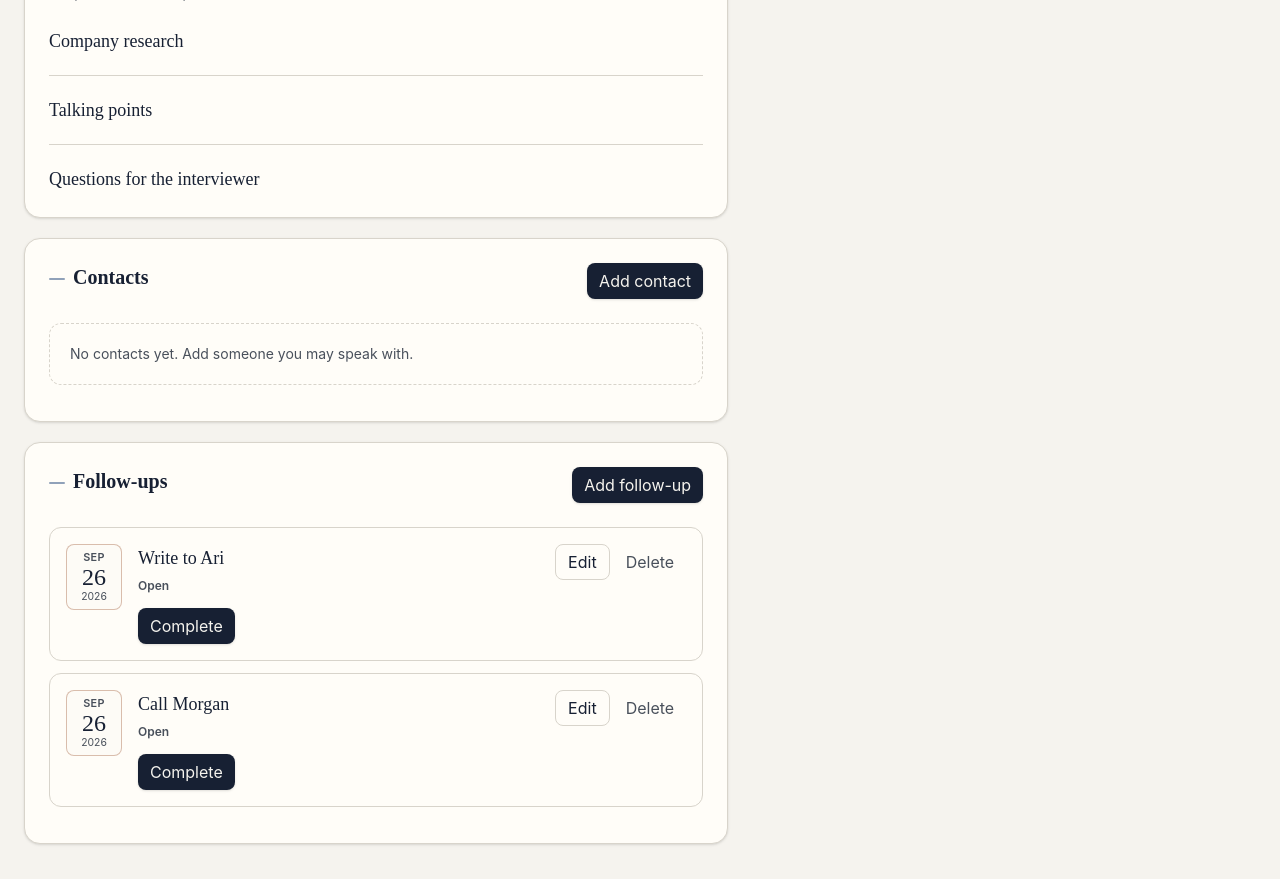
Scenario: asks before replacing a dirty follow-up editor
The image size is (1280, 879).
(page scrolled)
Click the button with aria-label "Edit Write to Ari". click: x=582, y=562
box: left=555, top=544, right=610, bottom=580
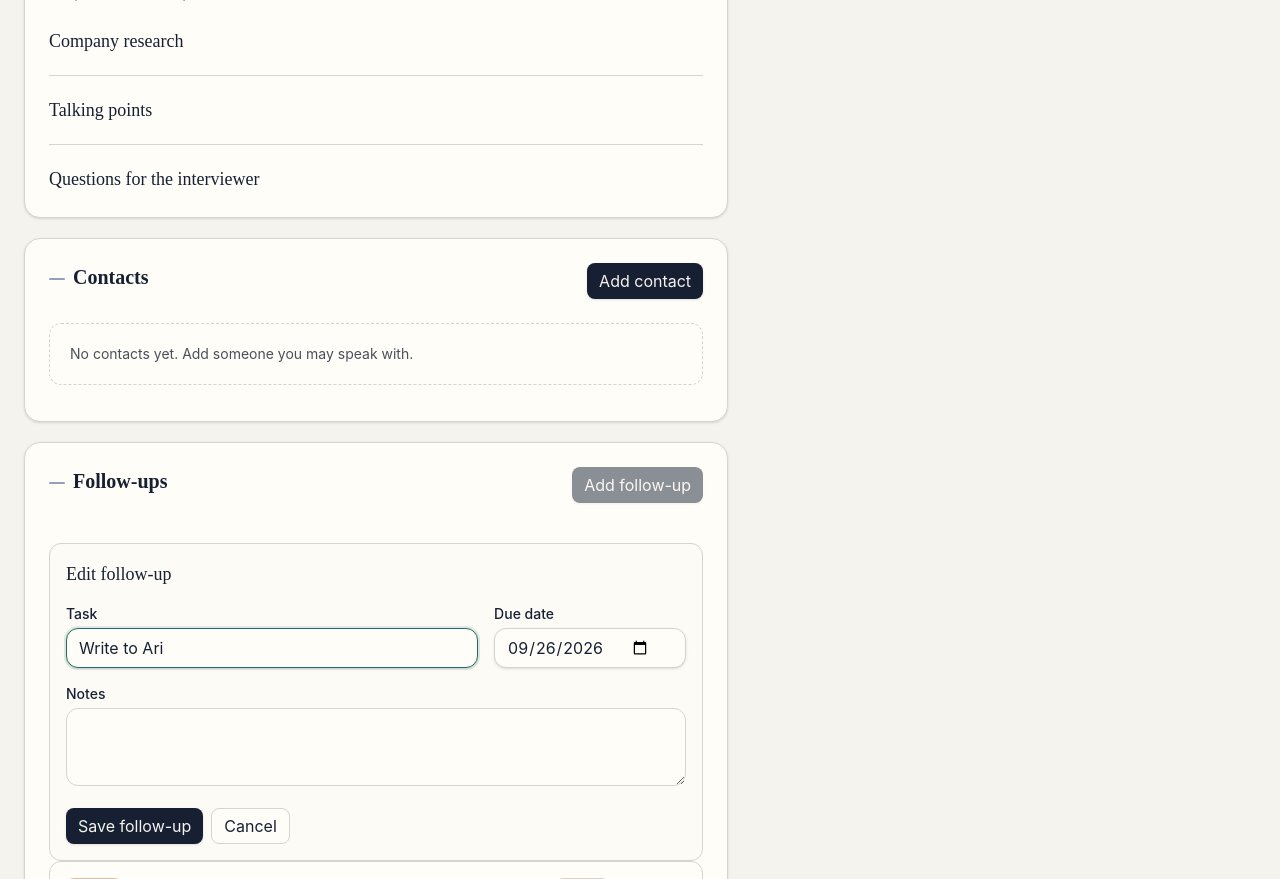
Replace the text in the field labelled "Task" with "Draft follow-up". click: x=272, y=648
box: left=66, top=628, right=478, bottom=668
(page scrolled)
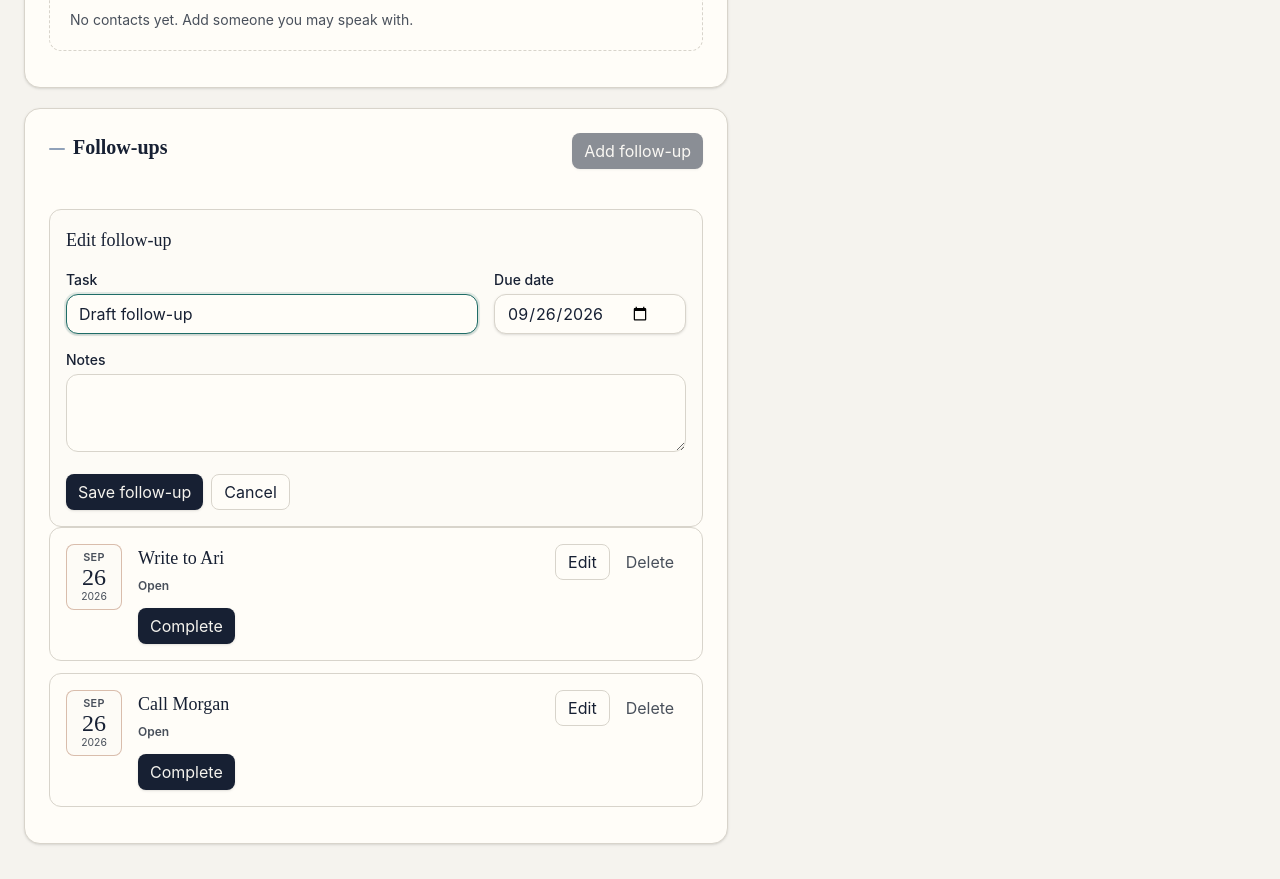
Click the button with aria-label "Edit Call Morgan". click: x=582, y=708
box: left=555, top=690, right=610, bottom=726
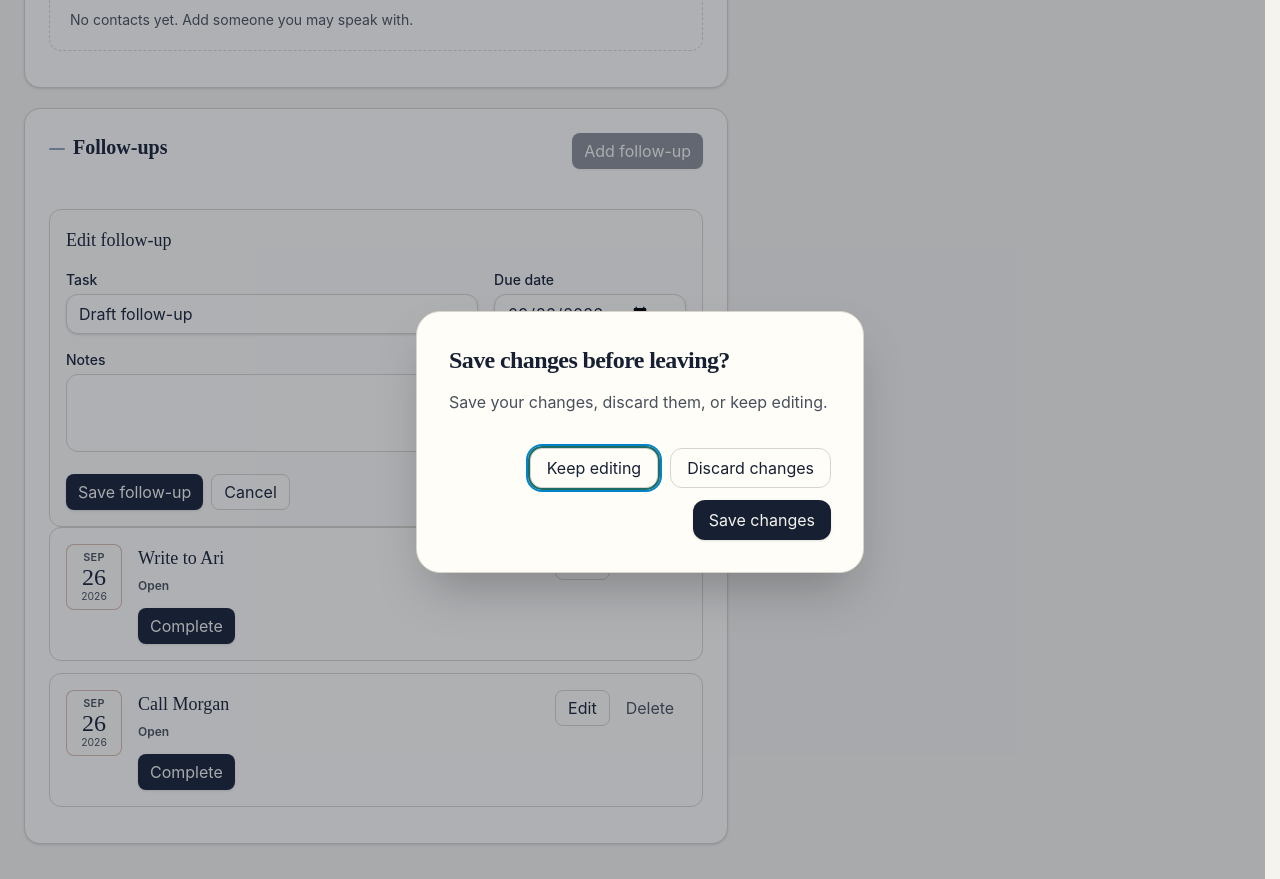
Result: the dialog "Save changes before leaving?" is shown at left=416, top=311, right=864, bottom=573
Click the button "Keep editing". click: x=594, y=468
box: left=530, top=448, right=658, bottom=488
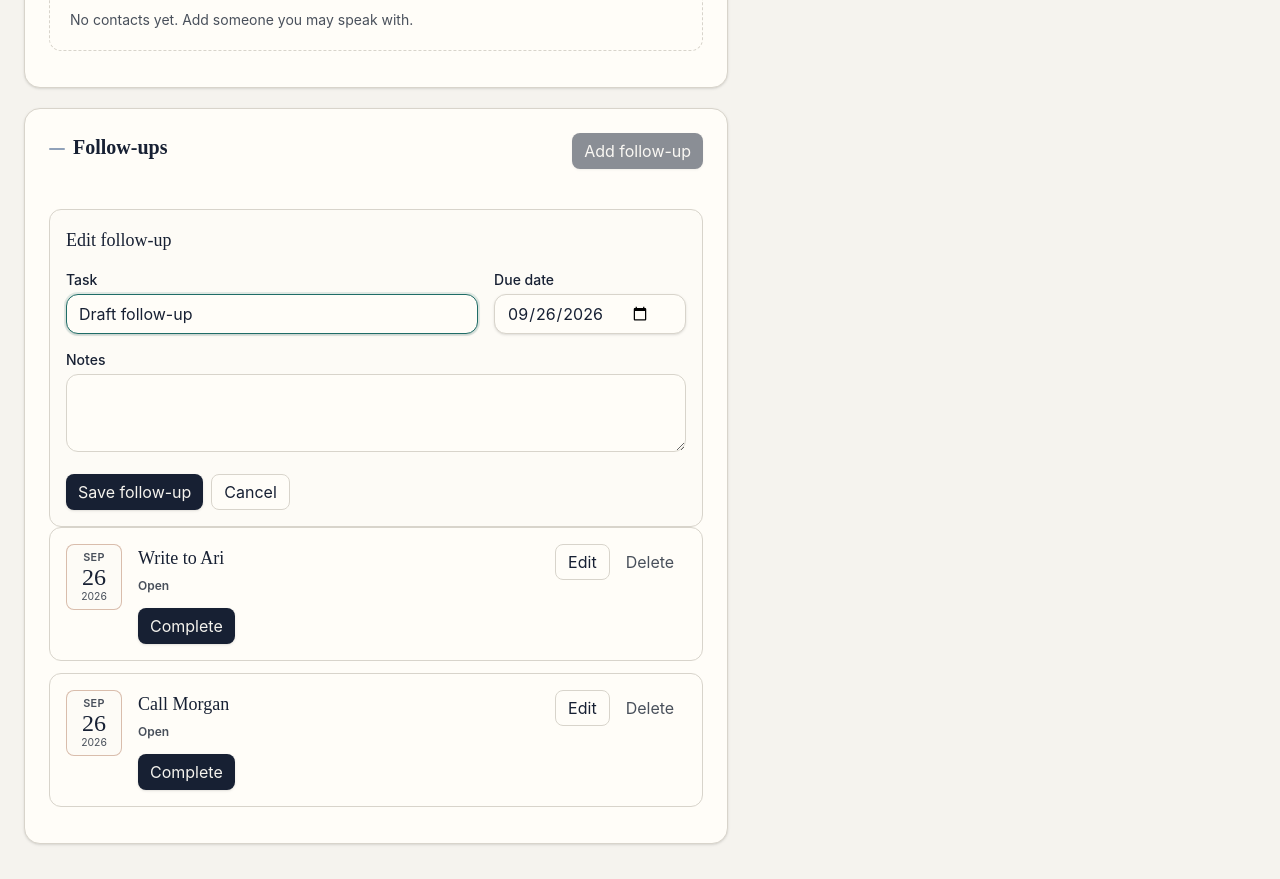
Click the button with aria-label "Edit Call Morgan". click: x=582, y=708
box: left=555, top=690, right=610, bottom=726
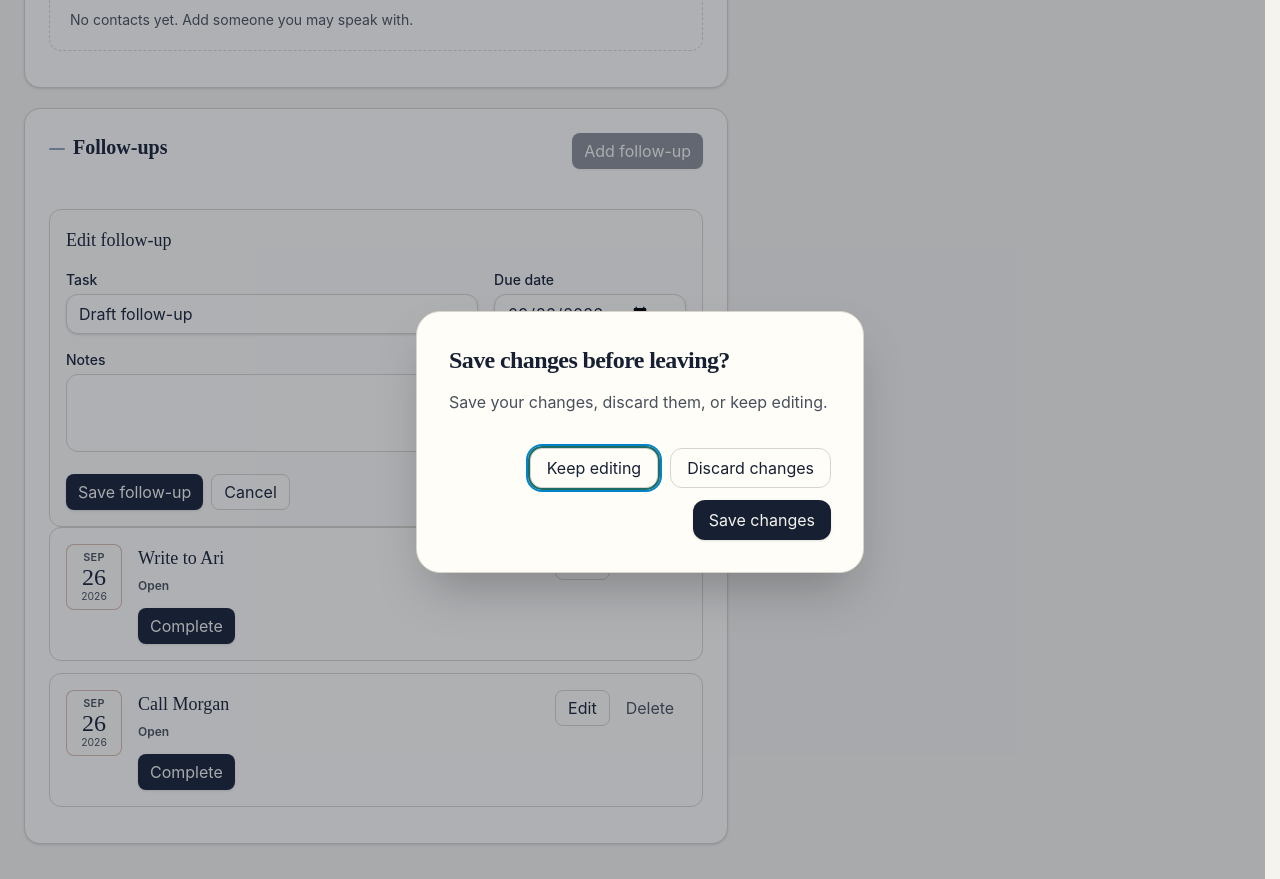
Click the button "Discard changes". click: x=751, y=468
box: left=670, top=448, right=831, bottom=488
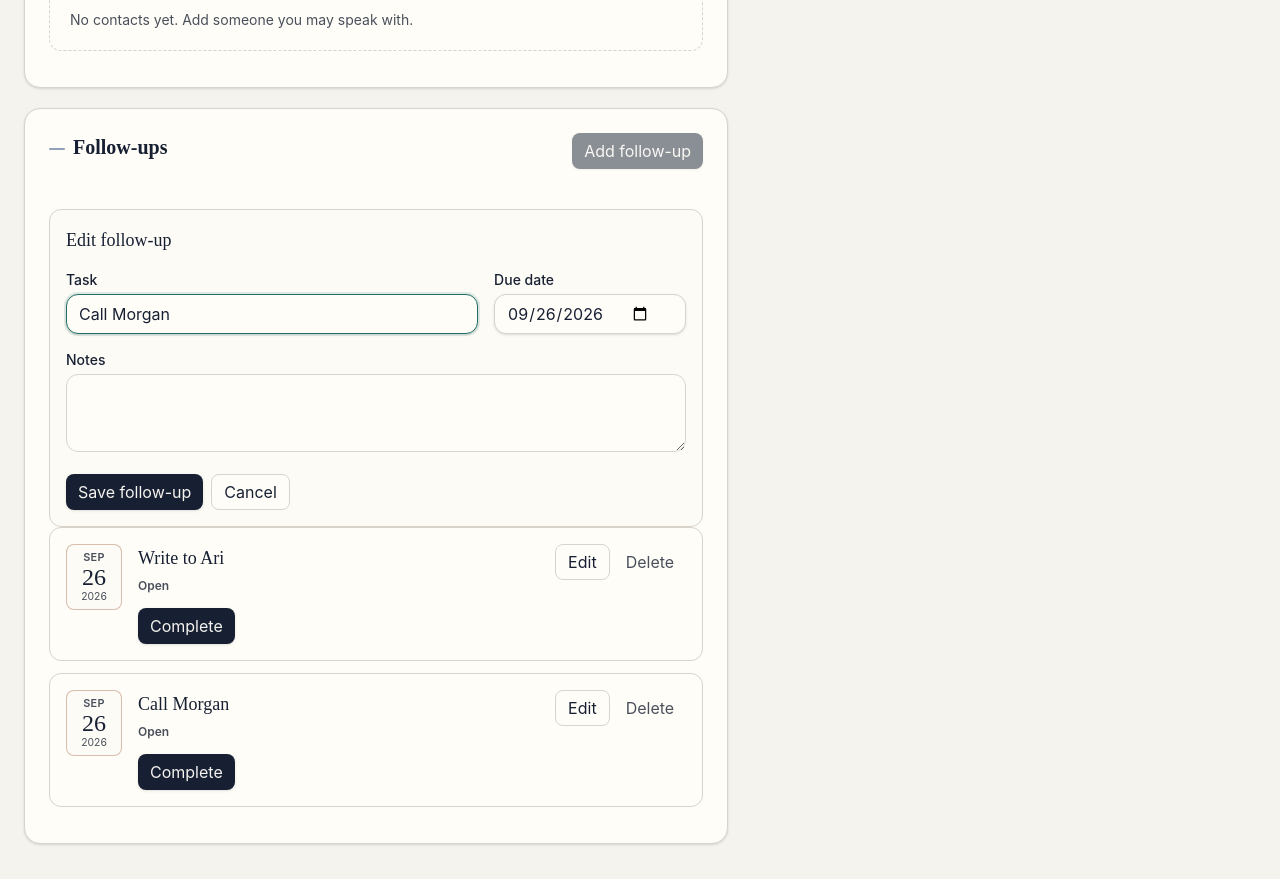
Result: the field labelled "Task" holds "Call Morgan" at left=66, top=294, right=478, bottom=334
